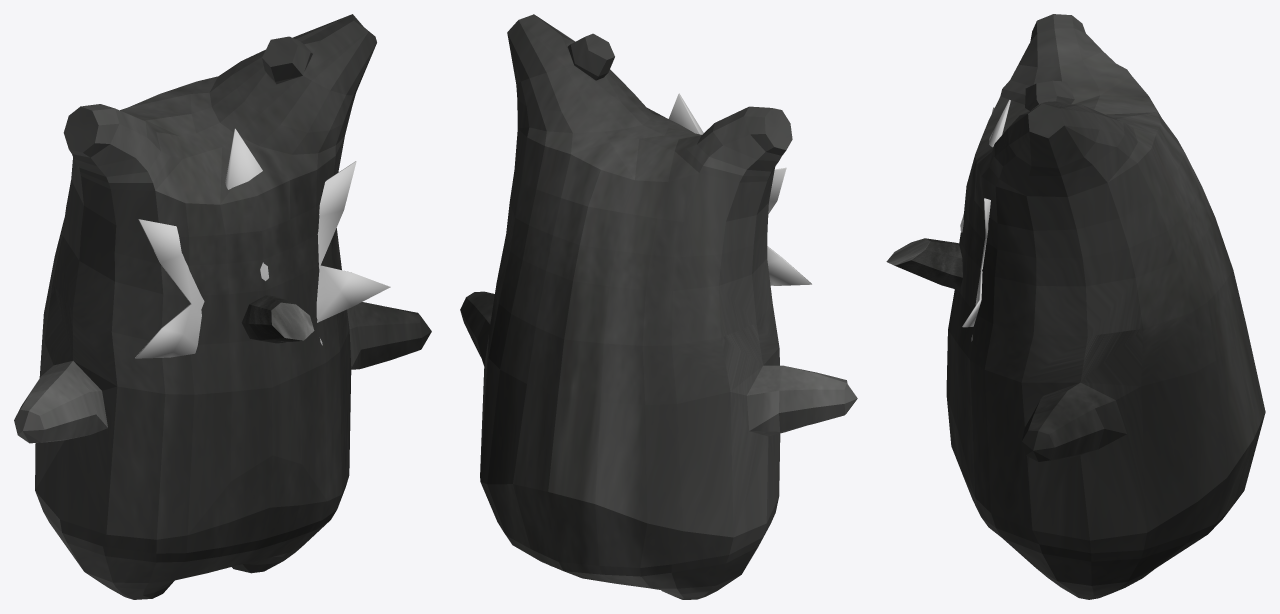
Rendered from frame_0001.obj.
3 renders of one model, left to right at view 1: azimuth 30°, elevation 25°; view 2: azimuth 150°, elevation 25°; view 3: azimuth 270°, elevation 25°, orthographic. The views are drawn at different scales.
Visible parts, largest first — view 1: korok, leaf, nose; view 2: korok, leaf; view 3: korok, nose, leaf.
Boxes of the visible parts, box(x1,y1,x2,y2) form: korok: box(14, 14, 431, 599); leaf: box(135, 128, 390, 358); nose: box(241, 295, 314, 343); korok: box(460, 14, 857, 599); leaf: box(668, 93, 811, 285); korok: box(946, 14, 1265, 599); nose: box(886, 238, 962, 290); leaf: box(960, 100, 1010, 341).
Size of the model in its own units: 1.69 by 2.17 by 1.41.
